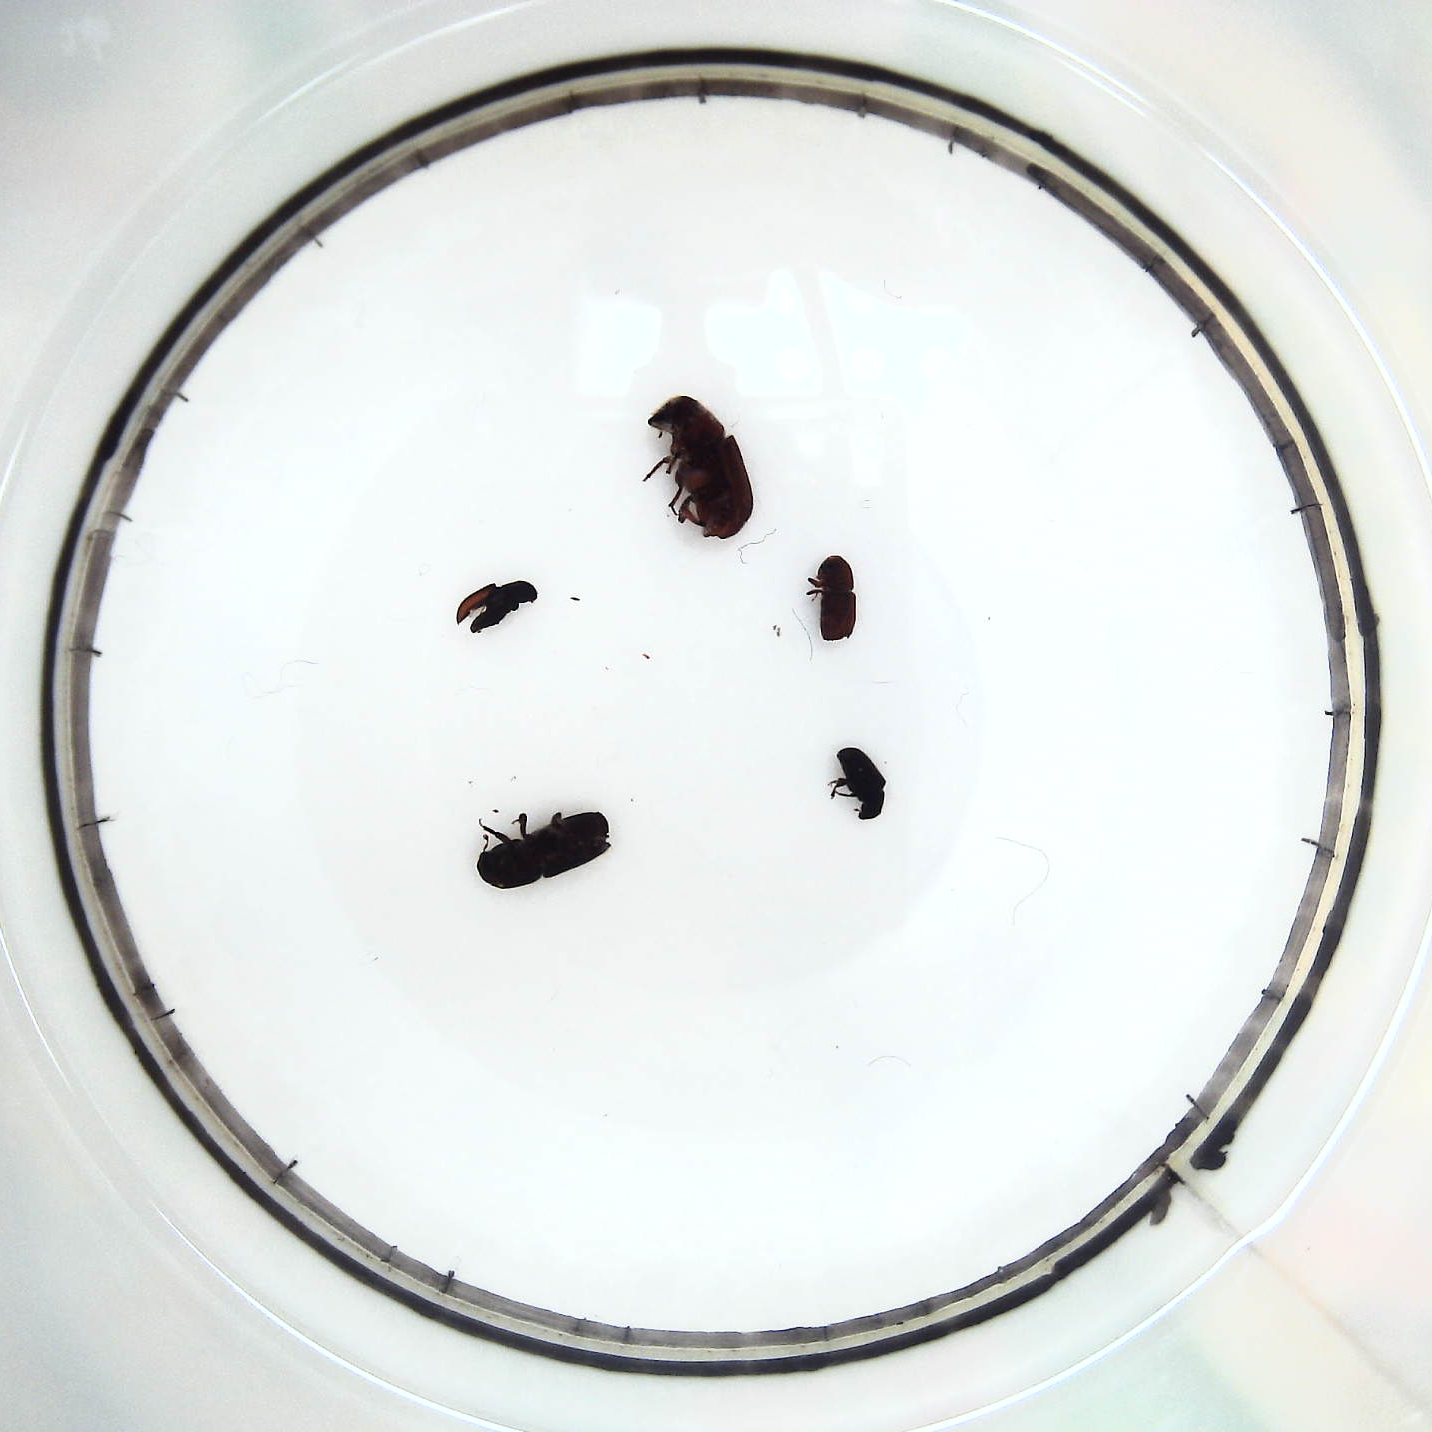Boerner: (473, 804, 618, 890)
Leconte: (629, 392, 757, 544)
armandi: (456, 578, 547, 639)
coleoptera: (825, 741, 888, 829)
linnaeus: (803, 551, 864, 646)
